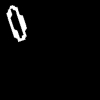chain: (7, 6, 25, 41)
